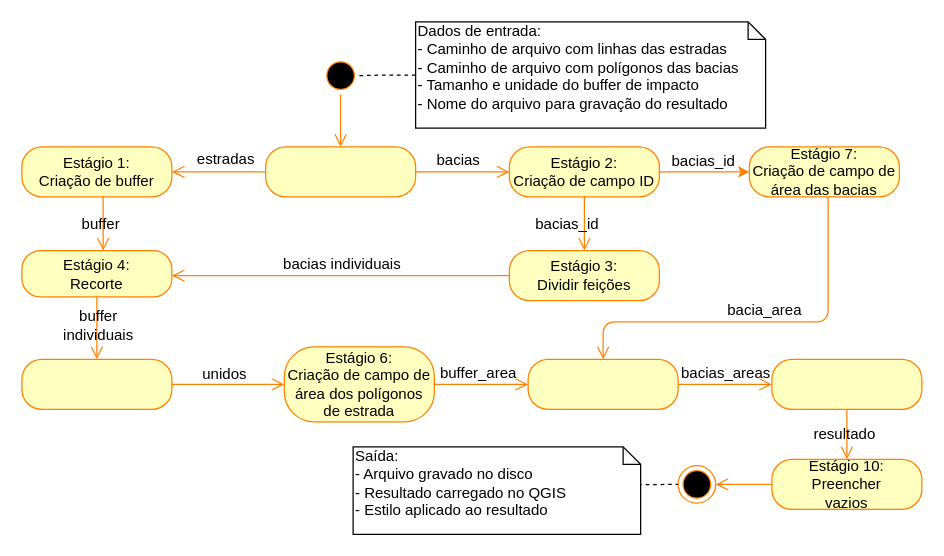
The diagram is 944 pixels wide and 556 high, and some of its shapes have lost their labels. The box of each missing label's shape, as (x1, y1, x2, y2) in pixels:
Estágio 5: União de feições: (21, 358, 172, 409)
Estágio 8: União de tabelas de atributos: (527, 358, 678, 409)
Estágio 9: Cálculo da porcentagem: (771, 358, 922, 409)
loadData Carregamento: (264, 146, 416, 197)
